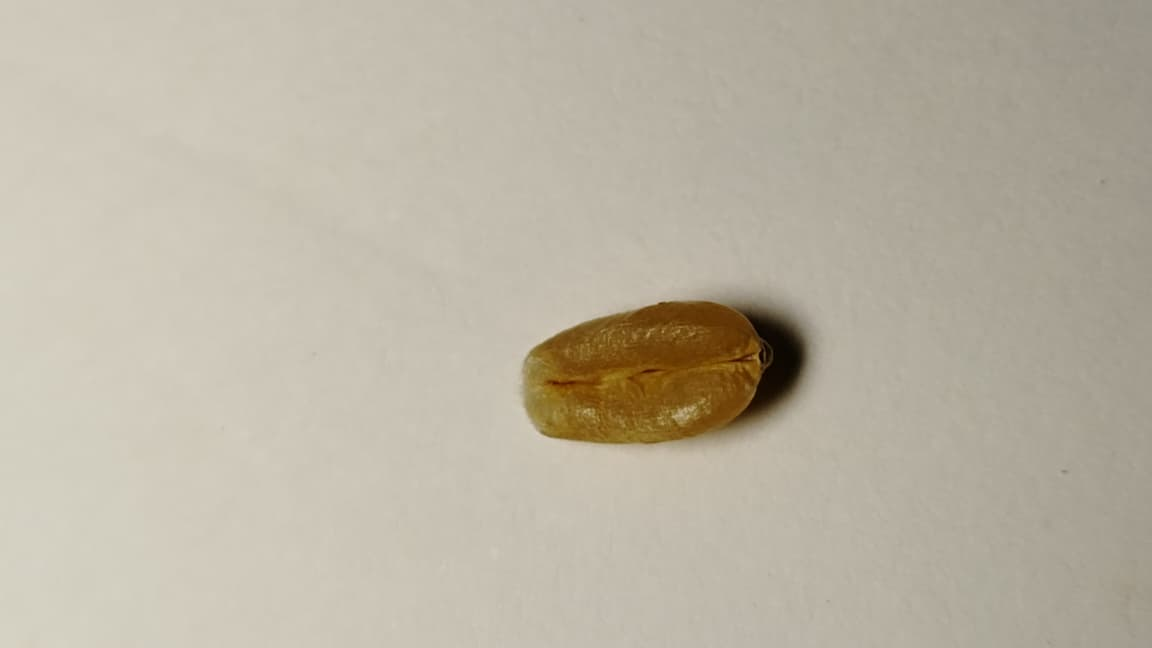healthy: (524, 302, 770, 442)
